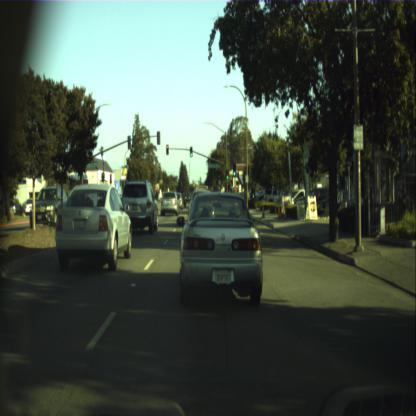Green: (189, 146, 193, 156), (233, 164, 236, 176), (226, 170, 229, 180)
Red: (166, 144, 168, 154)
